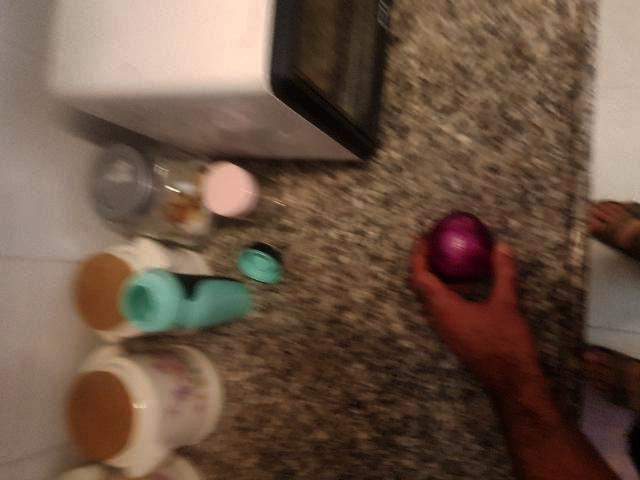onion: (422, 209, 522, 303)
